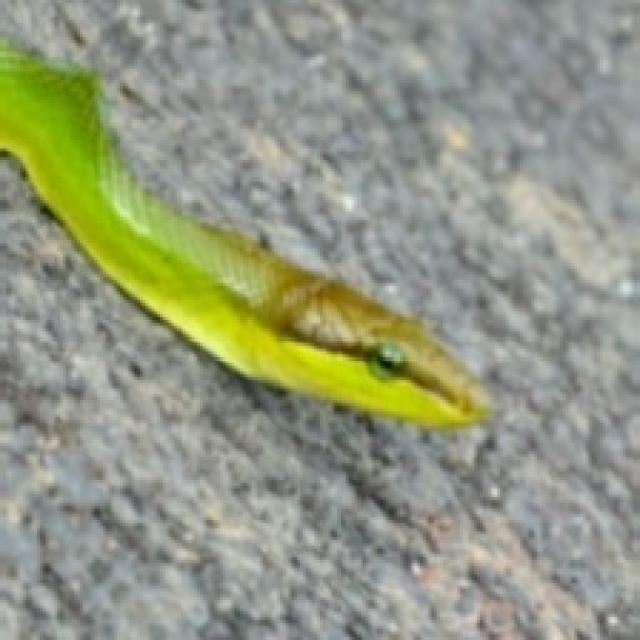red-tailed green ratsnake: (0, 37, 486, 426)
